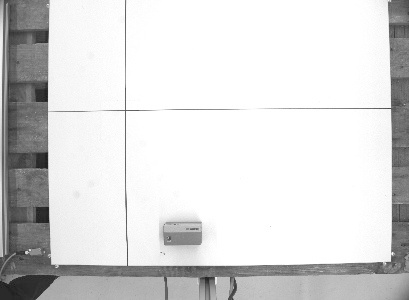b3: (161, 219, 204, 247)
